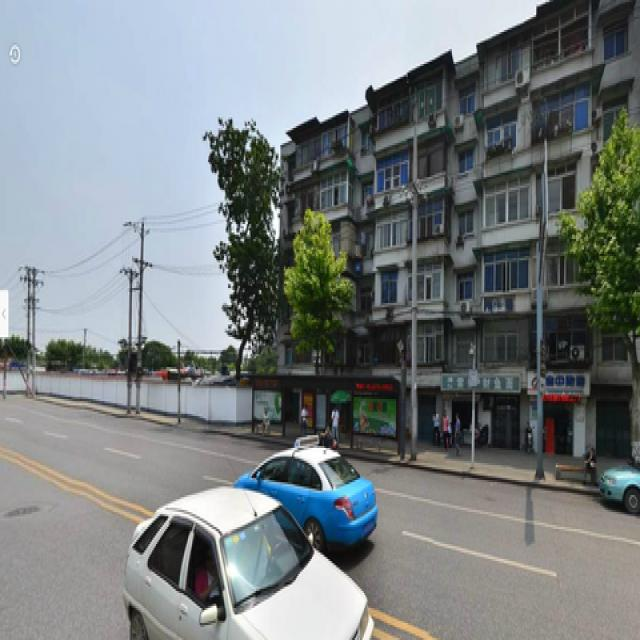meta: (288, 216, 335, 435)
